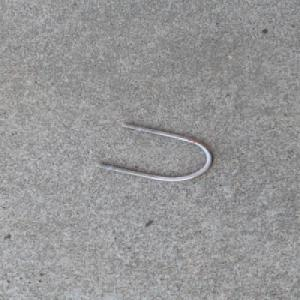ClampPart: (97, 122, 218, 181)
